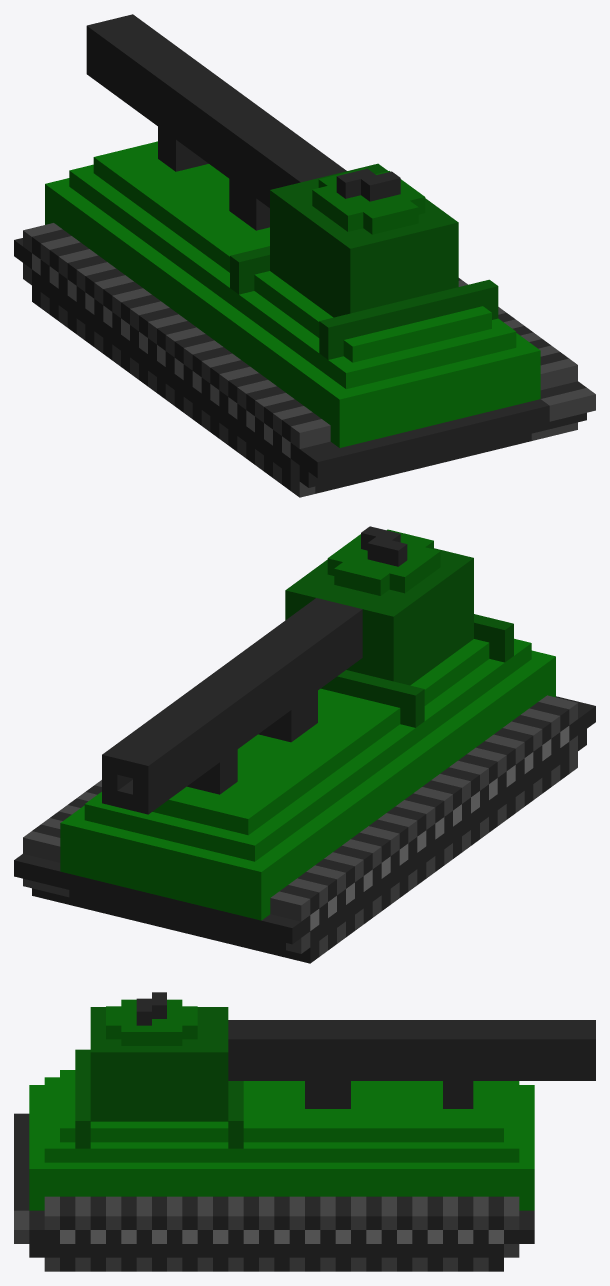
Rendered from tank.obj.
3 views of the same model, one above another, from view 1: azimuth 30°, elevation 25°; view 2: azimuth 150°, elevation 25°; view 3: azimuth 270°, elevation 25° (orthographic). The views are drawn at different scales.
Bounding box in the file's own units: 1.8 × 1.5 × 3.8.
Materials: 1 (1 with a texture image).
